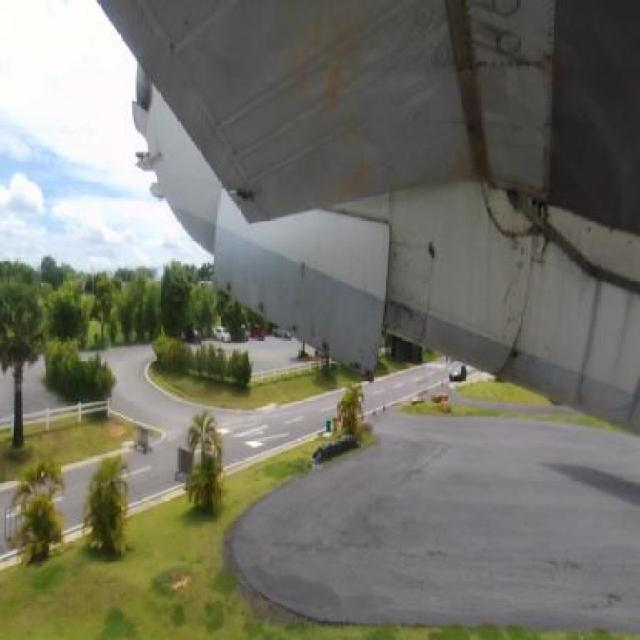Missing-Rivet: (472, 47, 551, 82)
Rust: (564, 252, 640, 421), (440, 5, 502, 198), (280, 13, 385, 121), (487, 170, 562, 282), (473, 285, 545, 400), (386, 224, 445, 359), (322, 128, 389, 235), (348, 339, 389, 399), (314, 320, 338, 371), (253, 280, 273, 322), (218, 266, 240, 302), (286, 308, 300, 340)
Scartch: (519, 25, 587, 118), (212, 148, 272, 242), (501, 274, 525, 340), (502, 228, 528, 282)
